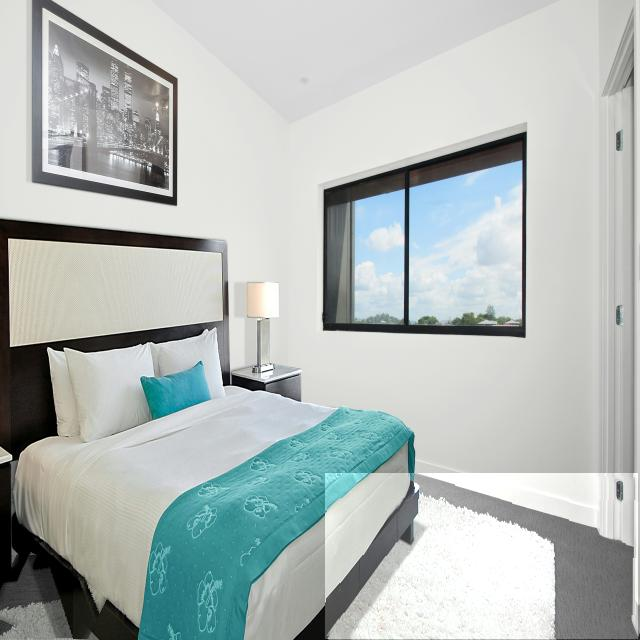floor: (326, 473, 638, 639), (0, 555, 73, 639)
